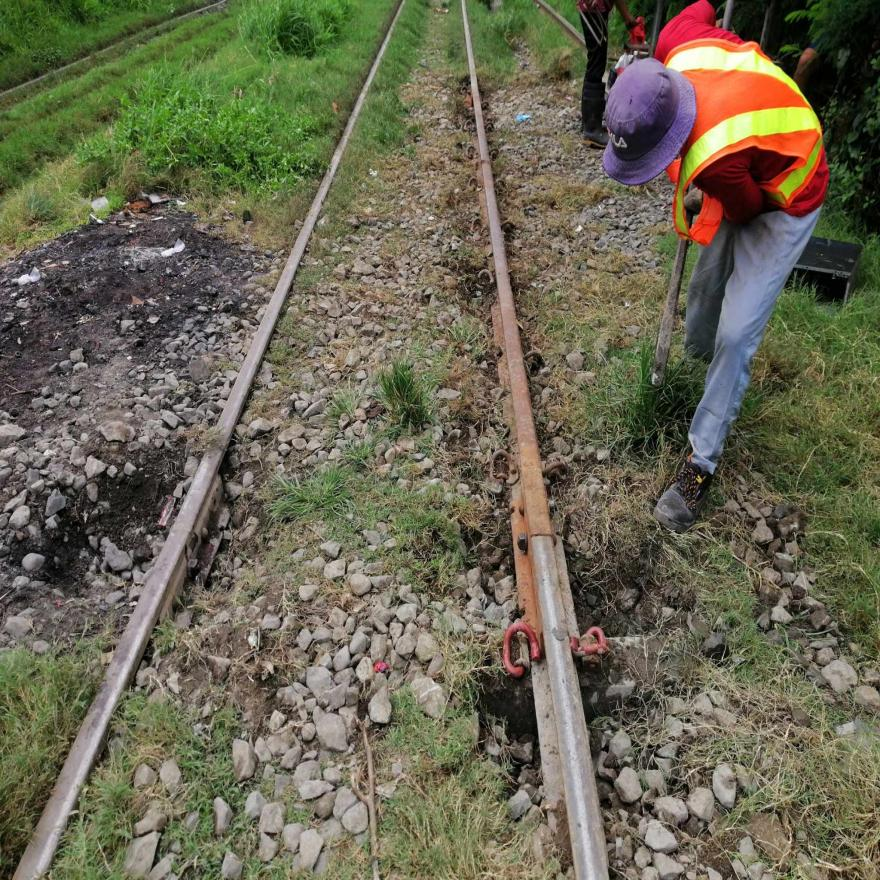railway-gap: (511, 496, 570, 576)
